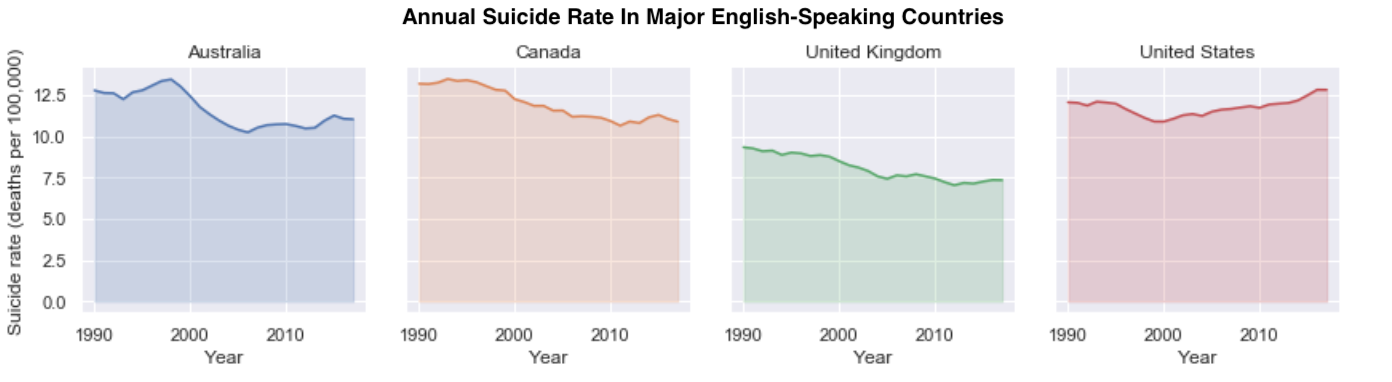

Layout of this report page (visuals, bound fields, positions):
{"tool":"tableau","page":{"name":"Dashboard 1","canvas":[1000,800],"ordinal":0},"visuals":[{"type":"worksheet","title":"Sheet 4","mark":"Automatic","box":[8,8,824,784]},{"type":"legend","title":"Sheet 4","param":"[federated.0pt2vkq0hfuvb31849lue0dyv85i].[sum:prevalence:qk]","box":[832,8,160,65]}]}

Visuals, with their boxes on the page's 1000x800 design canvas (x1, y1, x2, y2). These are canvas units, not pixel positions in the 1392x382 screenshot, which may show the page scaled, cropped or inside an application window:
"Sheet 4" worksheet: bbox(8, 8, 832, 792)
"Sheet 4" legend: bbox(832, 8, 992, 73)
